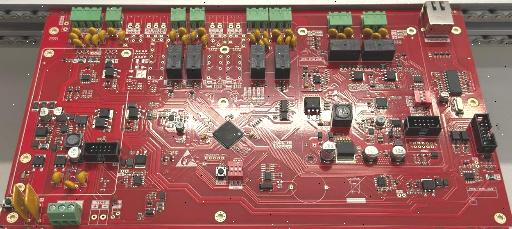var: (12, 183, 30, 222), (25, 183, 41, 222), (51, 171, 62, 185), (77, 171, 88, 185), (64, 180, 78, 189), (360, 27, 372, 37), (343, 27, 354, 37), (168, 30, 176, 43), (181, 34, 189, 47), (107, 27, 117, 37), (197, 27, 206, 38), (71, 28, 82, 37), (73, 38, 84, 47), (84, 34, 92, 46), (189, 31, 197, 43), (99, 30, 107, 42), (91, 34, 99, 46), (378, 28, 388, 37), (178, 27, 187, 37), (328, 28, 338, 37), (69, 33, 79, 42), (262, 37, 270, 48), (201, 34, 208, 46), (118, 30, 125, 42), (272, 29, 281, 38), (88, 27, 98, 35), (275, 35, 283, 45), (291, 35, 297, 48), (249, 33, 256, 44), (370, 32, 381, 39), (285, 29, 294, 37), (336, 32, 346, 39), (284, 35, 291, 44), (255, 29, 261, 39), (262, 30, 269, 38), (258, 40, 265, 46)
